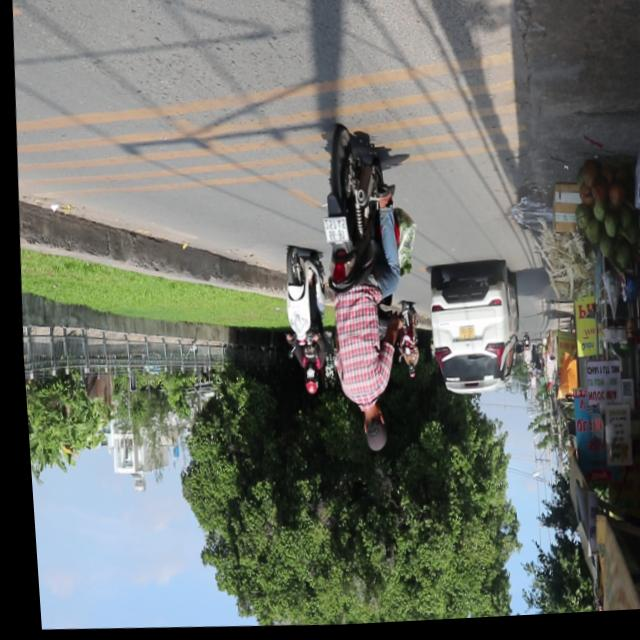helmet: (296, 369, 312, 397)
licenseplate: (303, 123, 419, 458), (271, 247, 328, 400)
motorcyclist: (352, 407, 381, 457)
nohelmet: (318, 219, 344, 247)
